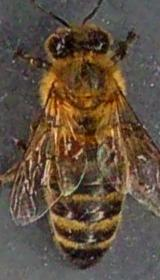varroa_mite: (57, 130, 88, 166)
